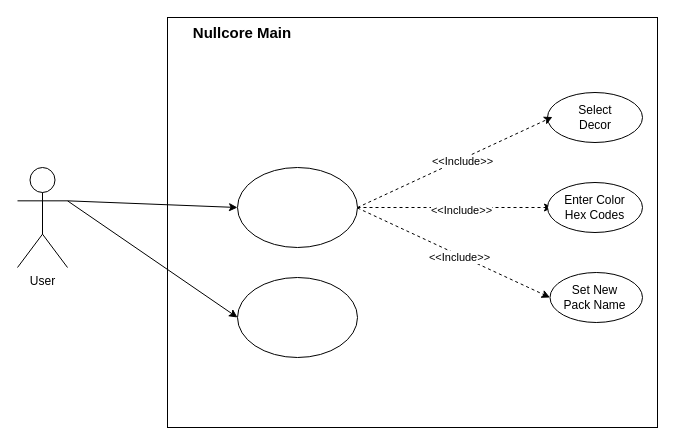
This 675x445 diagram has some shape labels left out. Here are the shapes that lost their labels. From the top down, the centre of each, then its label:
the point at 297,207: Create Pack
the point at 297,317: Refresh Samples
